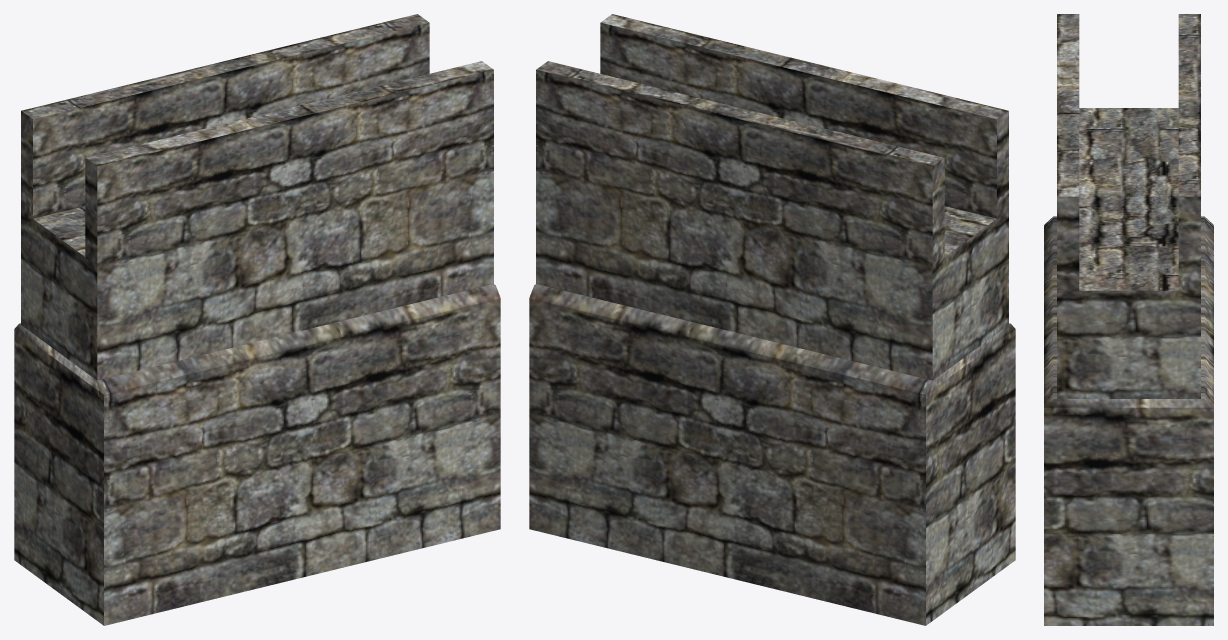
File: inca_wall_short.dae
3 renders of one model, left to right at view 1: azimuth 30°, elevation 25°; view 2: azimuth 150°, elevation 25°; view 3: azimuth 270°, elevation 25°, orthographic. The views are drawn at different scales.
Parts seen in each view (by area): view 1: wall_inca_curt; view 2: wall_inca_curt; view 3: wall_inca_curt.
Boxes of the visible parts, x1,y1,x2,y2 form: wall_inca_curt: [14, 14, 500, 625]; wall_inca_curt: [529, 14, 1015, 625]; wall_inca_curt: [1044, 14, 1213, 625].
Size of the model in its own units: 14.78 by 5.8 by 16.18.
